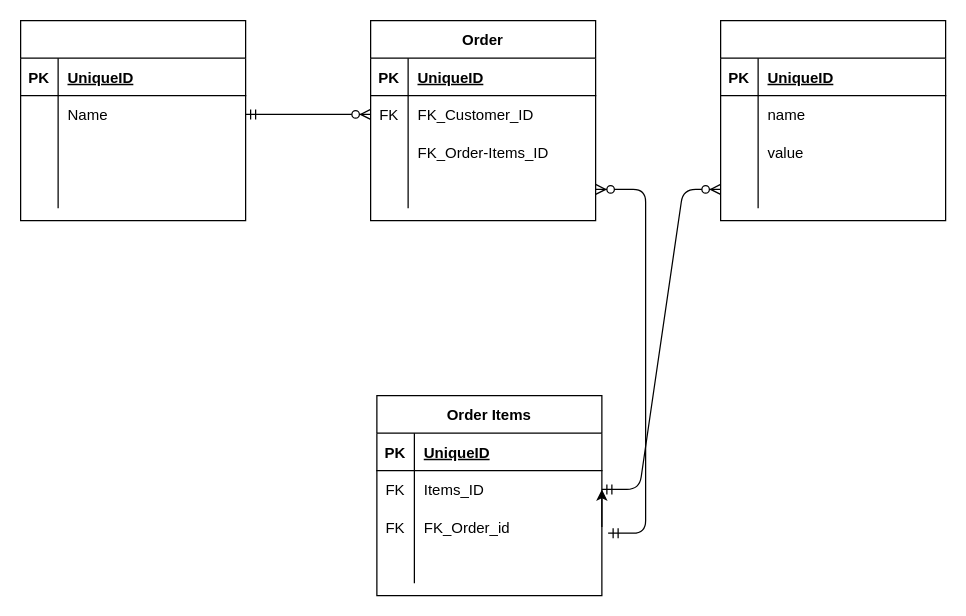
Image size: 966x616. Some labels were removed from this diagram. Each missing label, with the box of its shape:
Customer: (19, 19, 246, 221)
Items: (719, 19, 946, 221)
